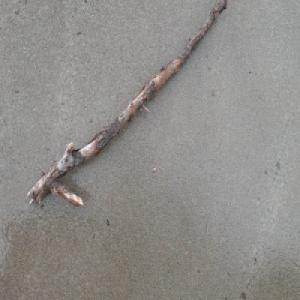Wood: (26, 0, 228, 207)
